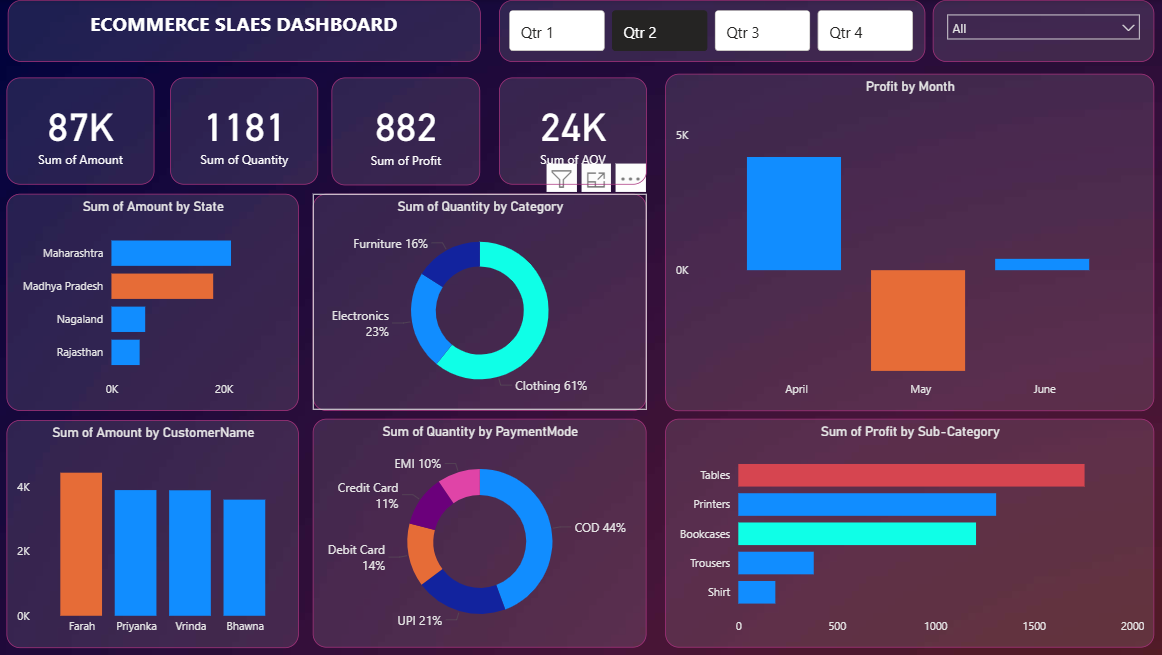

Layout of this report page (visuals, bound fields, positions):
{"tool":"powerbi","page":{"name":"Page 1","canvas":[1280,720],"ordinal":0},"visuals":[{"type":"textbox","box":[10,0,518.9,67.8],"z":0},{"type":"columnChart","title":"Profit by Month","fields":{"Y":["Details.Profit"],"Category":["Orders.Order Date.Variation.Date Hierarchy.Month"]},"box":[731.4,80.7,536.4,370],"z":1000},{"type":"barChart","fields":{"Category":["Details.Sub-Category"],"Y":["Details.Profit"]},"box":[731.4,460,536.4,251.4],"z":2000},{"type":"donutChart","fields":{"Y":["Details.Quantity"],"Category":["Details.PaymentMode"]},"box":[344.3,460,366.4,251.4],"z":3000},{"type":"donutChart","fields":{"Category":["Details.Category"],"Y":["Details.Quantity"]},"box":[344.3,212.1,366.4,238.6],"z":4000},{"type":"card","fields":{"Values":["Details.Amount"]},"box":[8.6,85,162.1,117.9],"z":5000},{"type":"card","fields":{"Values":["Details.Quantity"]},"box":[188.6,85.7,162.1,117.9],"z":6000},{"type":"card","fields":{"Values":["Details.Profit"]},"box":[365,85,162.9,118.6],"z":7000},{"type":"card","fields":{"Values":["Details.AOV"]},"box":[548.6,85.7,162.1,117.9],"z":8000},{"type":"barChart","fields":{"Category":["Orders.State"],"Y":["Details.Amount"]},"box":[8.6,212.1,320.7,238.6],"z":9000},{"type":"columnChart","fields":{"Category":["Orders.CustomerName"],"Y":["Details.Amount"]},"box":[8.6,460.7,320.7,250.7],"z":10000},{"type":"advancedSlicerVisual","fields":{"Values":["Orders.Order Date.Variation.Date Hierarchy.Quarter"]},"box":[548.9,0,467.8,67.8],"z":11000},{"type":"slicer","fields":{"Values":["Orders.State"]},"box":[1024.7,0,243.3,68],"z":11001}]}

Visuals, with their boxes in screenshot pixels (x1, y1, x2, y2), scaled from the page's 1280x720 canvas onto the 1162x655 screenshot:
textbox: 9,0,480,62
"Profit by Month" columnChart: 664,73,1151,410
barChart - Details.Sub-Category x Details.Profit: 664,418,1151,647
donutChart - Details.Quantity x Details.PaymentMode: 313,418,645,647
donutChart - Details.Category x Details.Quantity: 313,193,645,410
card - Details.Amount: 8,77,155,185
card - Details.Quantity: 171,78,318,185
card - Details.Profit: 331,77,479,185
card - Details.AOV: 498,78,645,185
barChart - Orders.State x Details.Amount: 8,193,299,410
columnChart - Orders.CustomerName x Details.Amount: 8,419,299,647
advancedSlicerVisual - Orders.Order Date.Variation.Date Hierarchy.Quarter: 498,0,923,62
slicer - Orders.State: 930,0,1151,62
